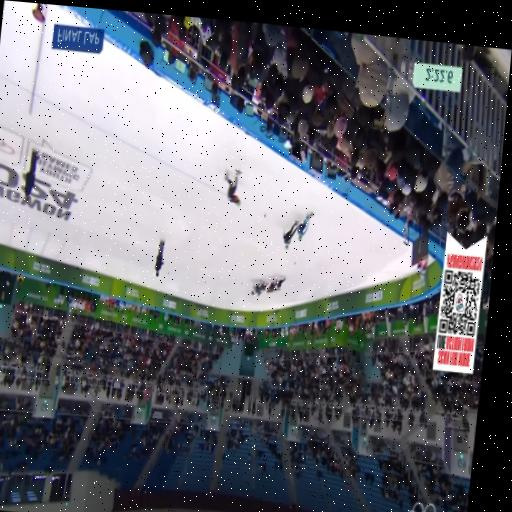Skater: (225, 169, 241, 205), (298, 212, 313, 239), (284, 221, 298, 248), (267, 277, 286, 292), (252, 281, 267, 294)
